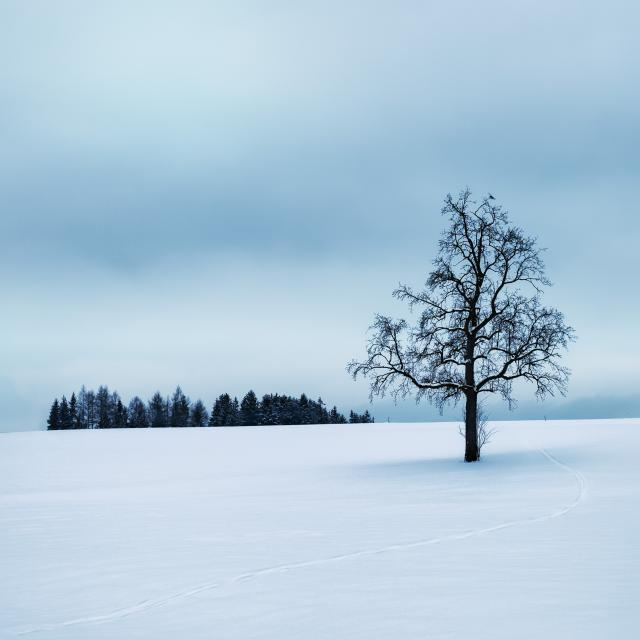tree: (349, 181, 577, 419), (212, 392, 240, 424), (128, 394, 148, 426), (146, 390, 166, 422), (171, 384, 189, 416), (189, 398, 209, 426), (76, 384, 88, 428), (96, 382, 112, 413), (47, 396, 61, 428), (85, 389, 96, 427), (60, 394, 70, 430), (328, 405, 348, 423), (242, 388, 258, 408), (70, 390, 78, 418), (110, 388, 122, 406), (164, 394, 172, 414)
